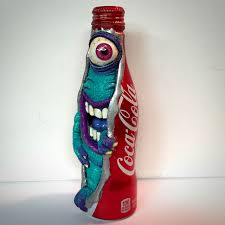Coca-Cola: (126, 85, 139, 179)
